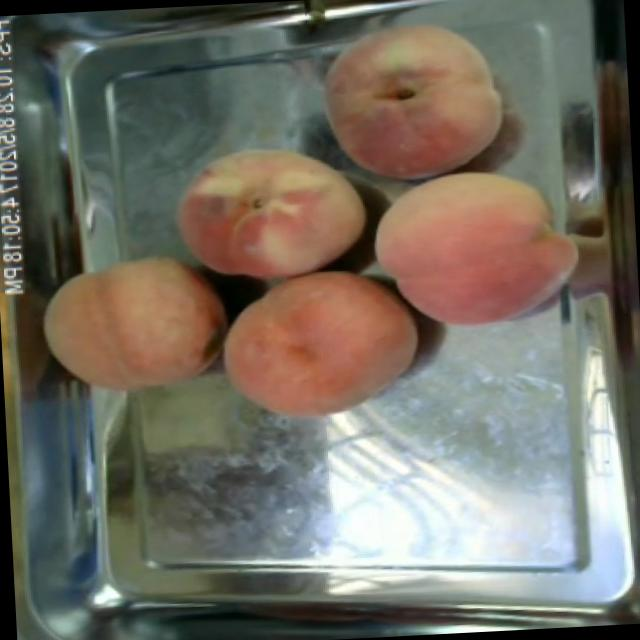Fruit: (362, 154, 587, 342), (306, 3, 516, 195), (210, 264, 432, 433), (164, 133, 376, 293), (29, 243, 232, 407)
